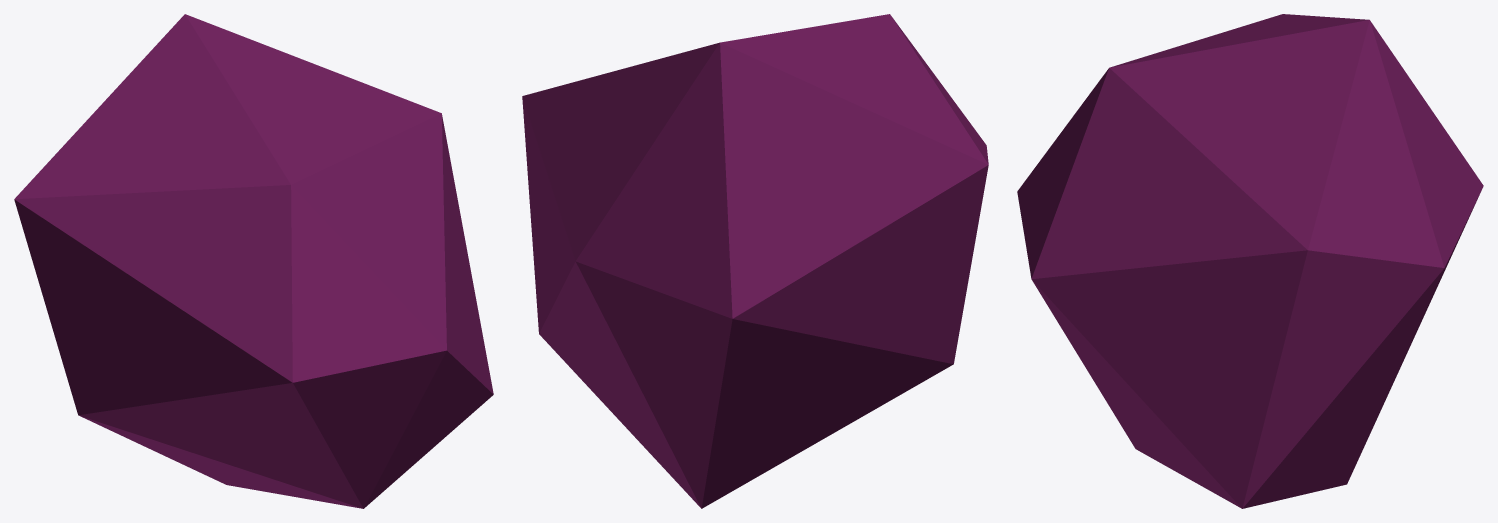
Rendered from debris.glb.
3 renders of one model, left to right at view 1: azimuth 30°, elevation 25°; view 2: azimuth 150°, elevation 25°; view 3: azimuth 270°, elevation 25°, orthographic. The views are drawn at different scales.
Visible parts, largest first — view 1: Chunk; view 2: Chunk; view 3: Chunk.
Boxes of the visible parts, <box> form: Chunk: <box>14,14,493,508</box>; Chunk: <box>522,14,988,508</box>; Chunk: <box>1017,14,1483,508</box>.
Bounding box in the file's own units: 0.1855 × 0.1815 × 0.1703.
